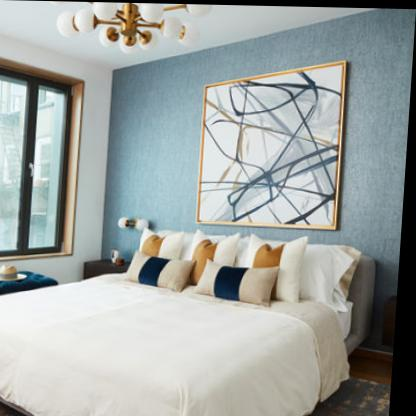Bed: (0, 230, 378, 416)
